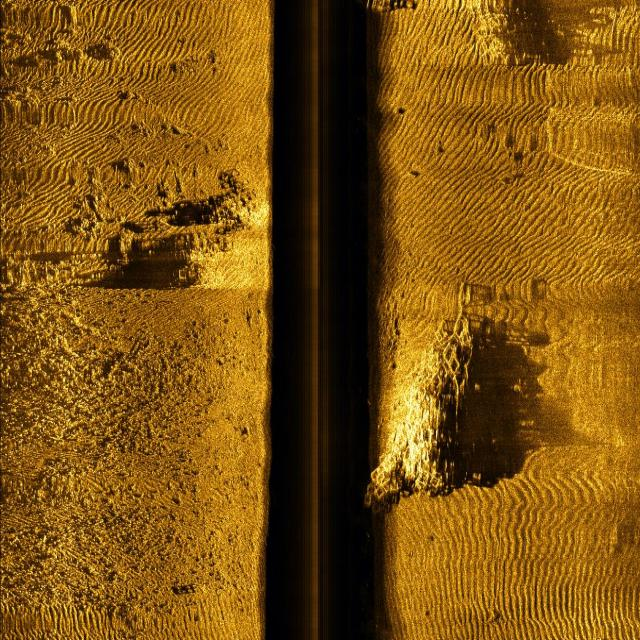artificial reef: (369, 315, 493, 515)
